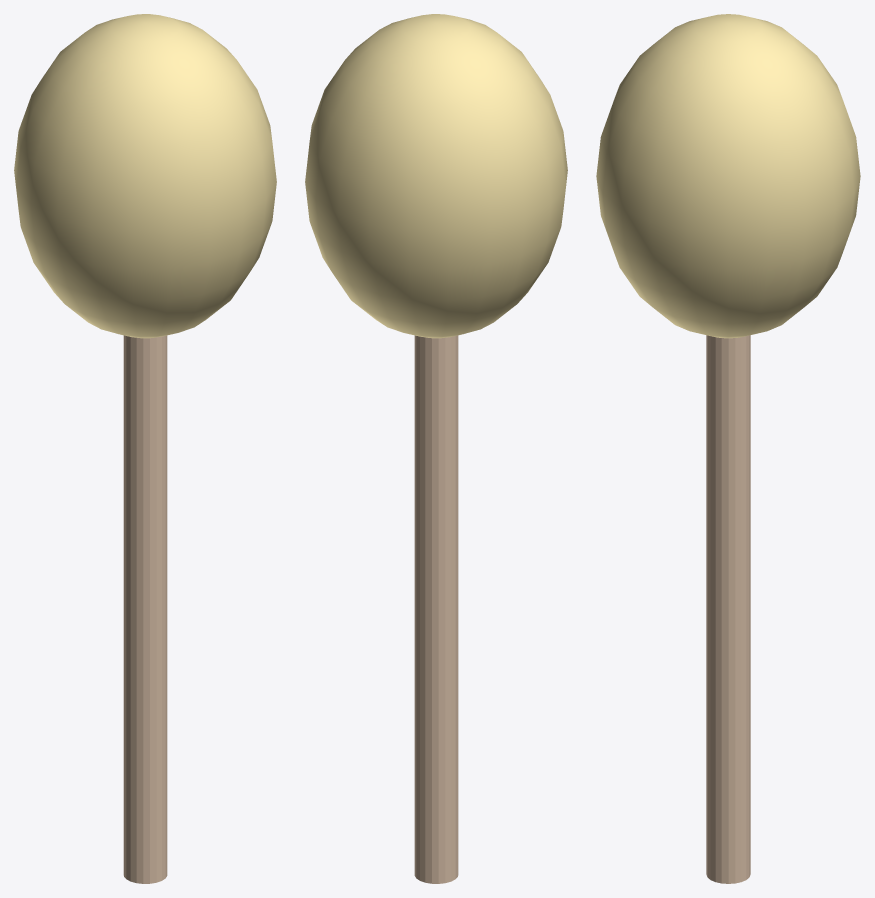
File: lantern.glb
The picture shows the model from 3 angles, left to right: view 1: azimuth 30°, elevation 25°; view 2: azimuth 150°, elevation 25°; view 3: azimuth 270°, elevation 25°; orthographic projection.
Visible parts, largest first — view 1: light, pole; view 2: light, pole; view 3: light, pole.
Part boxes in pixels (left/top/right/bottom): light: left=14, top=14, right=276, bottom=338; pole: left=123, top=335, right=167, bottom=883; light: left=305, top=14, right=567, bottom=338; pole: left=414, top=335, right=458, bottom=883; light: left=596, top=14, right=860, bottom=338; pole: left=706, top=335, right=750, bottom=883.
Bounding box in the file's own units: 0.36 × 1.28 × 0.36.
